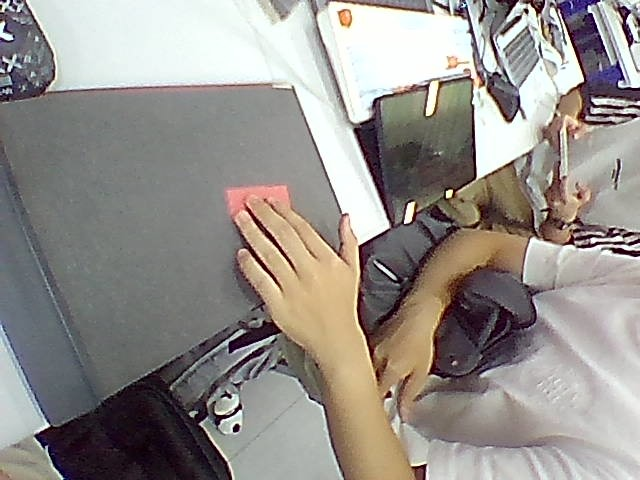card: (225, 185, 289, 216)
